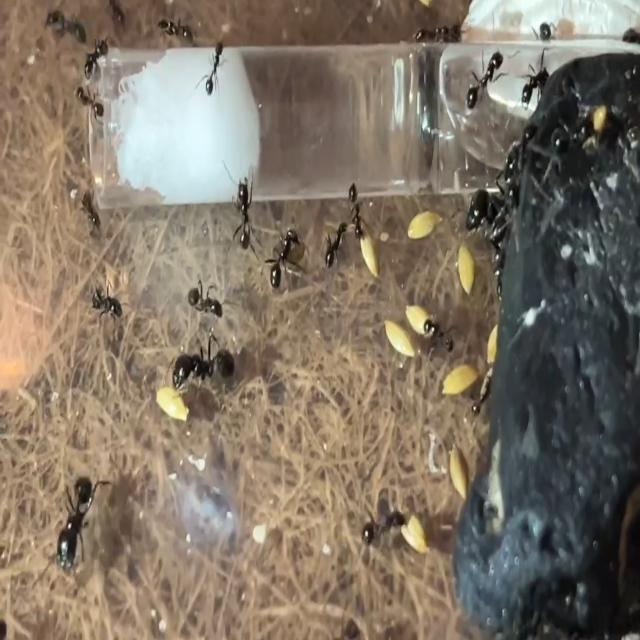Minor: (466, 14, 518, 110), (224, 163, 262, 263), (262, 228, 301, 292), (198, 40, 228, 96), (92, 284, 126, 327), (189, 281, 223, 321), (76, 81, 106, 126), (322, 220, 348, 270), (348, 183, 366, 239)
Soldier: (34, 464, 114, 592), (166, 333, 236, 391)
